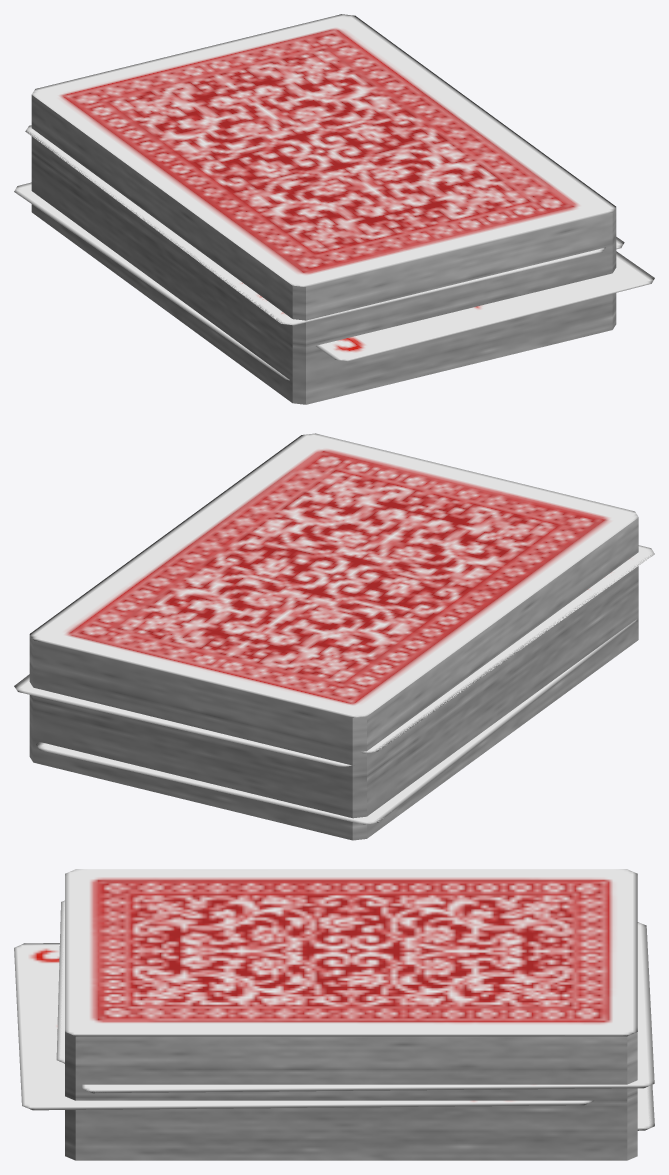
The model's file is Card_Pack.fbx.
3 renders of one model, top to bottom at view 1: azimuth 30°, elevation 25°; view 2: azimuth 150°, elevation 25°; view 3: azimuth 270°, elevation 25°, orthographic. The views are drawn at different scales.
Visible parts, largest first — view 1: Card_Pack; view 2: Card_Pack; view 3: Card_Pack.
Part boxes in pixels (x1,y1,x2,y2): Card_Pack: (14,14,654,404); Card_Pack: (14,433,654,840); Card_Pack: (14,869,654,1160).
Size of the model in its own units: 6.12 by 1.93 by 9.03.
